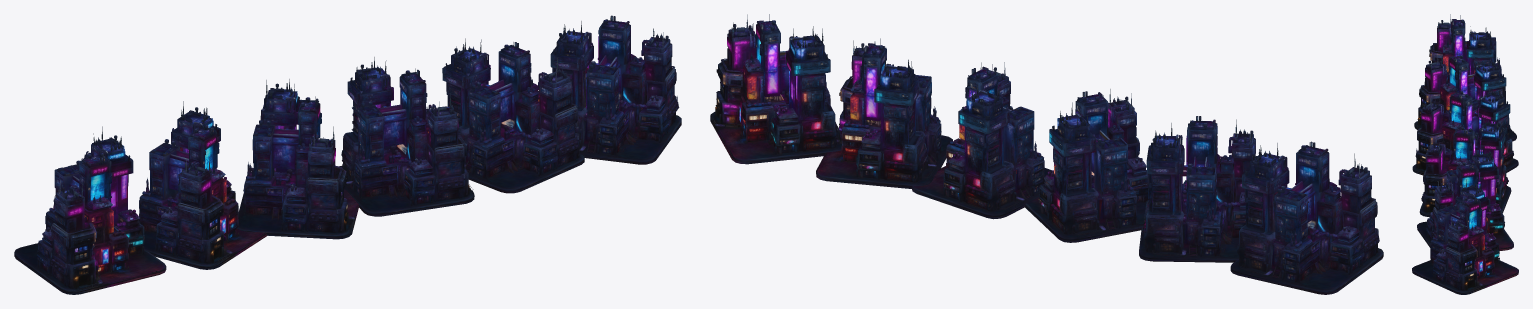
Rendered from cb_city_building.glb.
3 renders of one model, left to right at view 1: azimuth 30°, elevation 25°; view 2: azimuth 150°, elevation 25°; view 3: azimuth 270°, elevation 25°, orthographic. The views are drawn at different scales.
Visible parts, largest first — view 1: tripo_node_3eb9910b; view 2: tripo_node_3eb9910b; view 3: tripo_node_3eb9910b.
Part boxes in pixels (box(x1,y1,x2,y2)): tripo_node_3eb9910b: box(14, 15, 681, 294); tripo_node_3eb9910b: box(710, 14, 1383, 294); tripo_node_3eb9910b: box(1412, 14, 1518, 294).
Size of the model in its own units: 30.85 by 5.36 by 6.46.
Materials: 1 (1 with a texture image).
